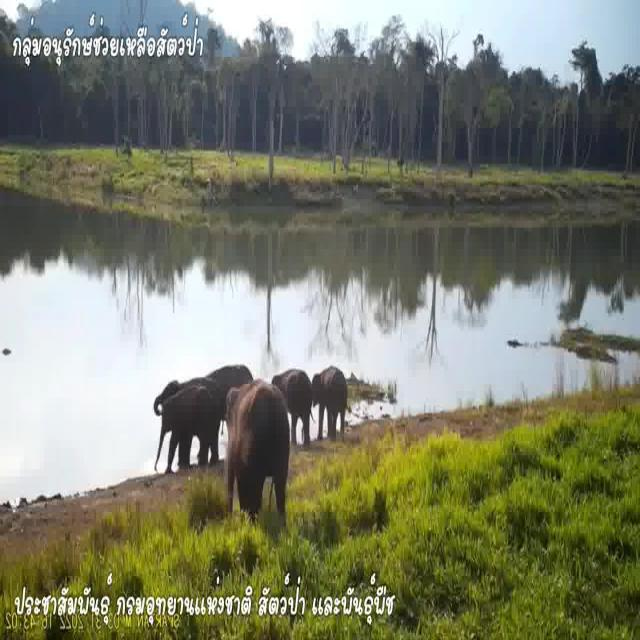Elephant: (228, 385, 285, 497), (153, 376, 214, 458), (275, 367, 312, 440), (312, 372, 351, 434)
